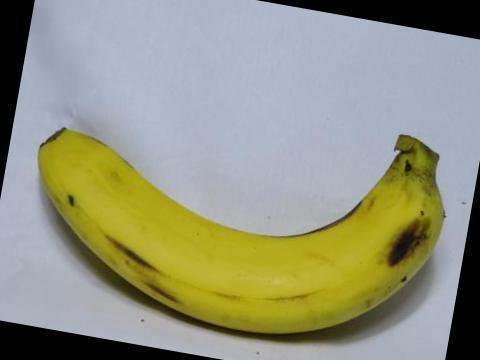freshripe: (30, 117, 449, 344)
